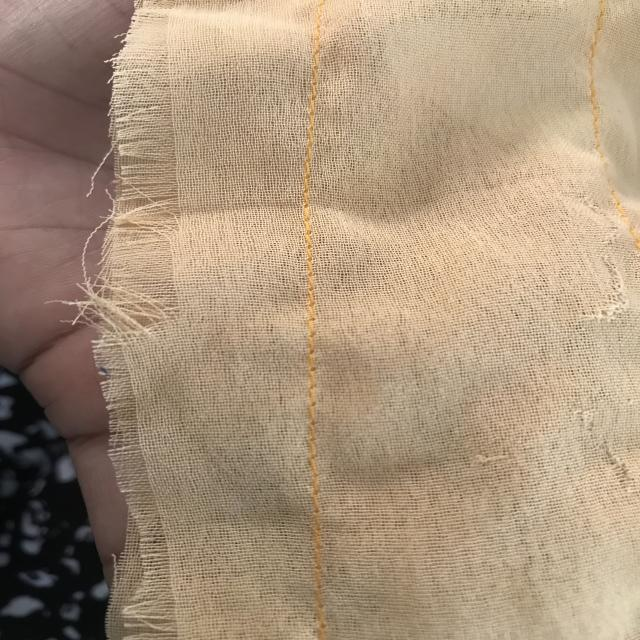good: (292, 331, 336, 418)
